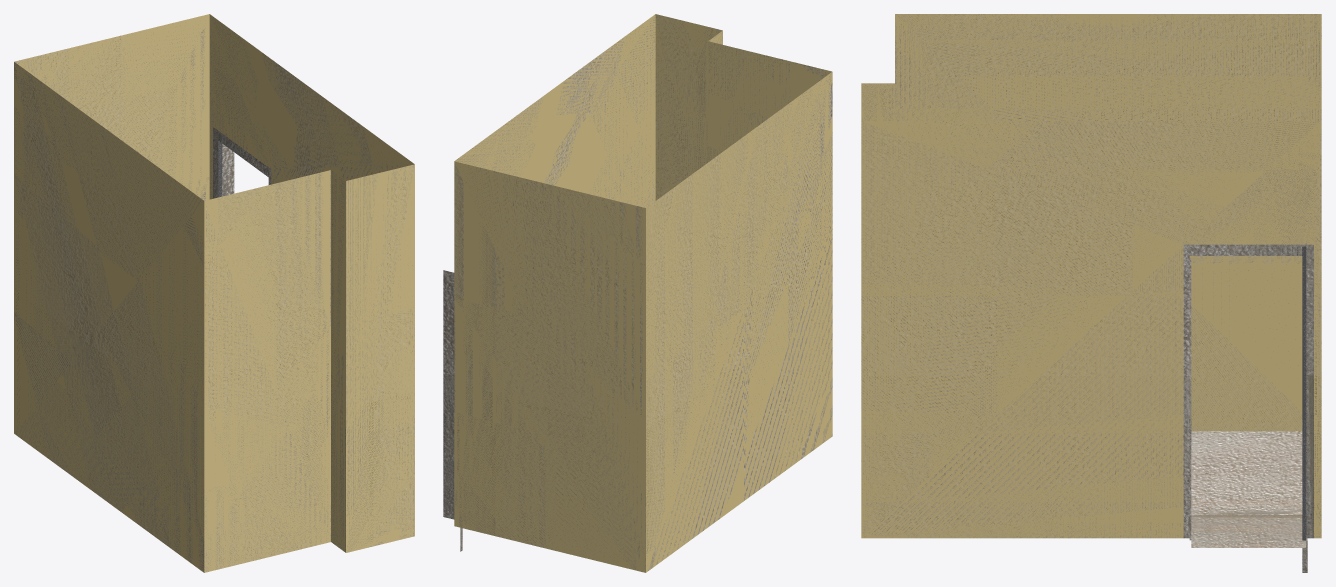
File: CUA047.obj
The picture shows the model from 3 angles, left to right: view 1: azimuth 30°, elevation 25°; view 2: azimuth 150°, elevation 25°; view 3: azimuth 270°, elevation 25°; orthographic projection. The views are drawn at different scales.
Parts seen in each view (by area): view 1: Mesh1 CUA047 Model; view 2: Mesh1 CUA047 Model; view 3: Mesh1 CUA047 Model.
Part boxes in pixels (<box>): Mesh1 CUA047 Model: <box>14,14,414,572</box>; Mesh1 CUA047 Model: <box>443,14,832,572</box>; Mesh1 CUA047 Model: <box>861,14,1321,572</box>.
Bounding box in the file's own units: 1.8 × 3.25 × 3.
5 materials, 2 textured.
